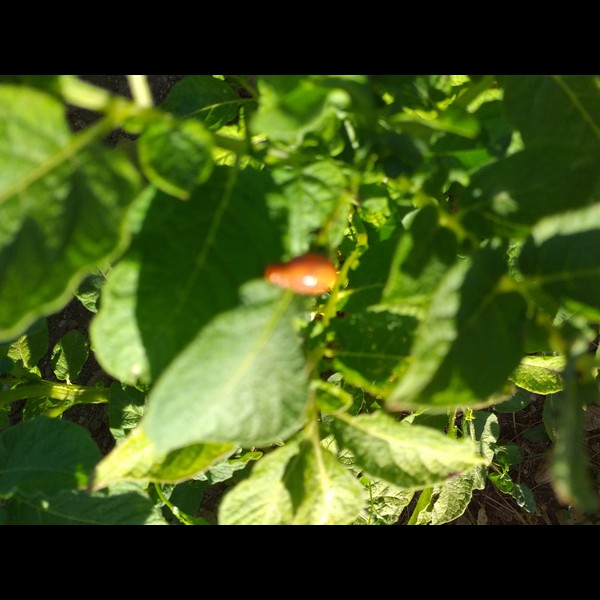hrosc: (266, 250, 342, 298)
